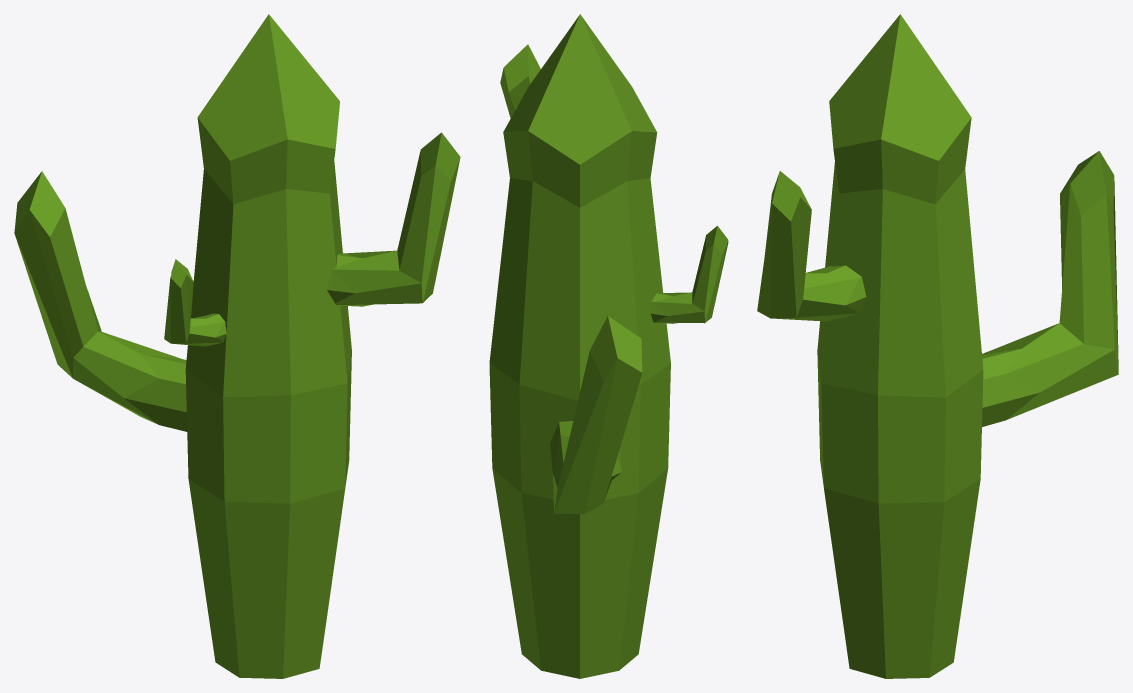
The model's file is Cactus_2.fbx.
3 views of the same model, side by side, from view 1: azimuth 30°, elevation 25°; view 2: azimuth 150°, elevation 25°; view 3: azimuth 270°, elevation 25° (orthographic).
Parts seen in each view (by area): view 1: Cactus2_mesh; view 2: Cactus2_mesh; view 3: Cactus2_mesh.
Part boxes in pixels (x1=…): Cactus2_mesh: x1=14, y1=14, x2=460, y2=678; Cactus2_mesh: x1=489, y1=14, x2=728, y2=678; Cactus2_mesh: x1=757, y1=14, x2=1118, y2=678.
Bounding box in the file's own units: 123 × 258 × 132.
